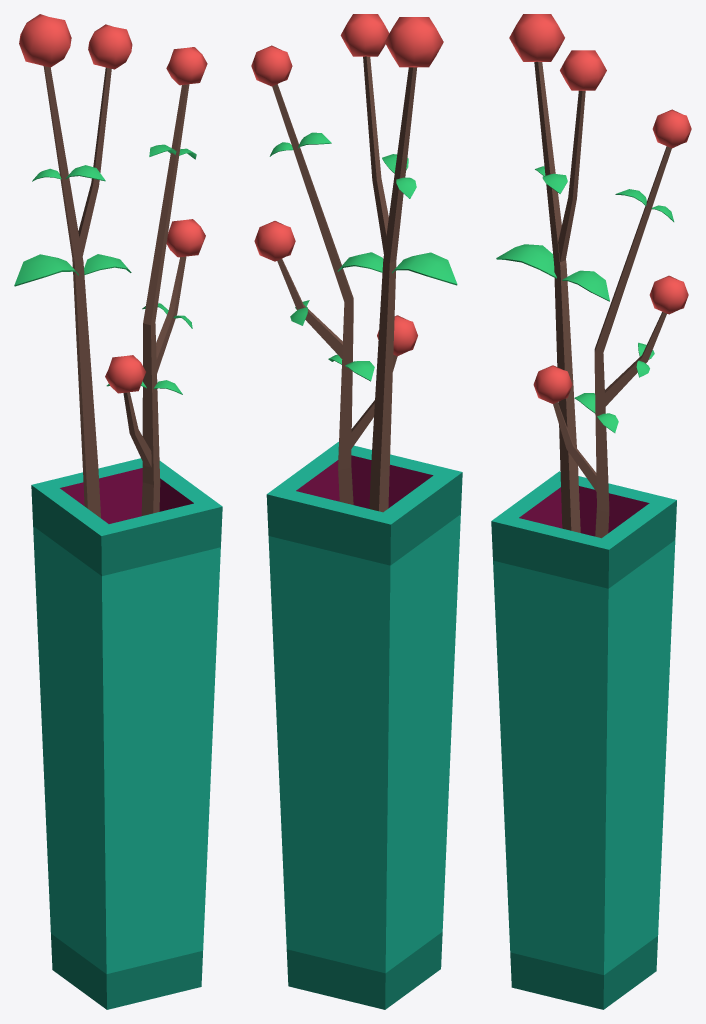
Rendered from Plant2 LV2.fbx.
3 renders of one model, left to right at view 1: azimuth 30°, elevation 25°; view 2: azimuth 150°, elevation 25°; view 3: azimuth 330°, elevation 25°, orthographic. The views are drawn at different scales.
Parts seen in each view (by area): view 1: Plant2_LV2; view 2: Plant2_LV2; view 3: Plant2_LV2.
Boxes of the visible parts, x1,y1,x2,y2 form: Plant2_LV2: (14,14,222,1009); Plant2_LV2: (251,14,462,1009); Plant2_LV2: (491,14,691,1009).
Size of the model in its own units: 57.41 by 272 by 35.76.
